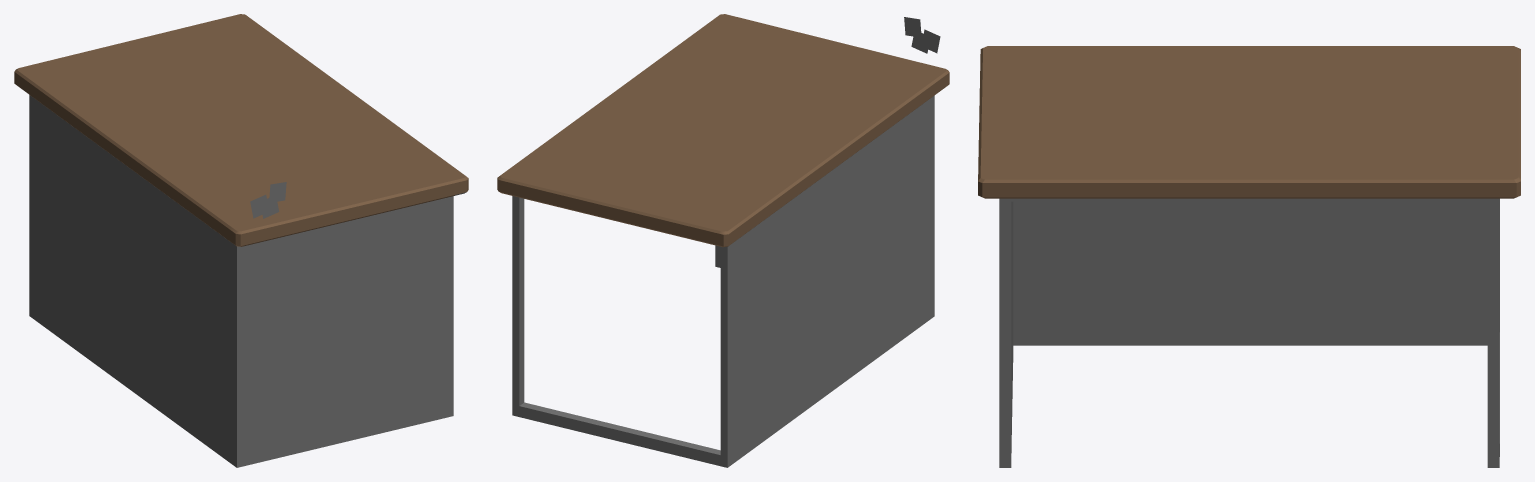
Rendered from desk_temp.fbx.
The picture shows the model from 3 angles, left to right: view 1: azimuth 30°, elevation 25°; view 2: azimuth 150°, elevation 25°; view 3: azimuth 270°, elevation 25°; orthographic projection. The views are drawn at different scales.
Visible parts, largest first — view 1: polySurface41; view 2: polySurface41; view 3: polySurface41.
Part boxes in pixels (x1,y1,x2,y2): polySurface41: (14,14,468,467); polySurface41: (497,14,949,467); polySurface41: (978,46,1520,467).
Bounding box in the file's own units: 110 × 129 × 185.
